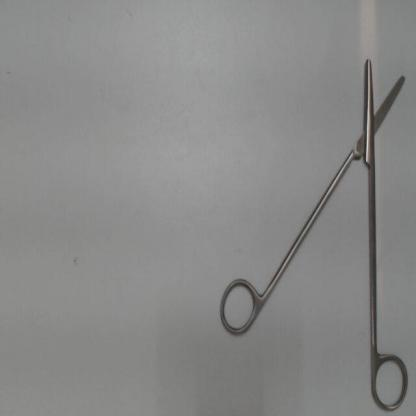9 Metzenbaum Scissors: (214, 52, 414, 414)
